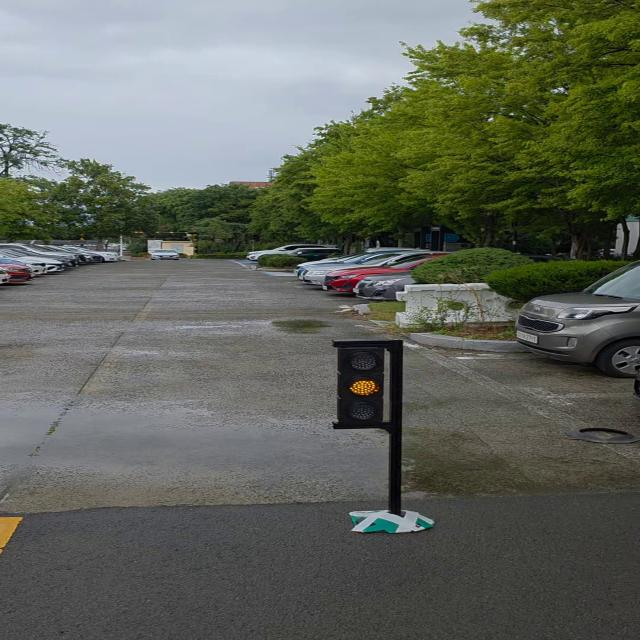yellow: (335, 343, 395, 432)
